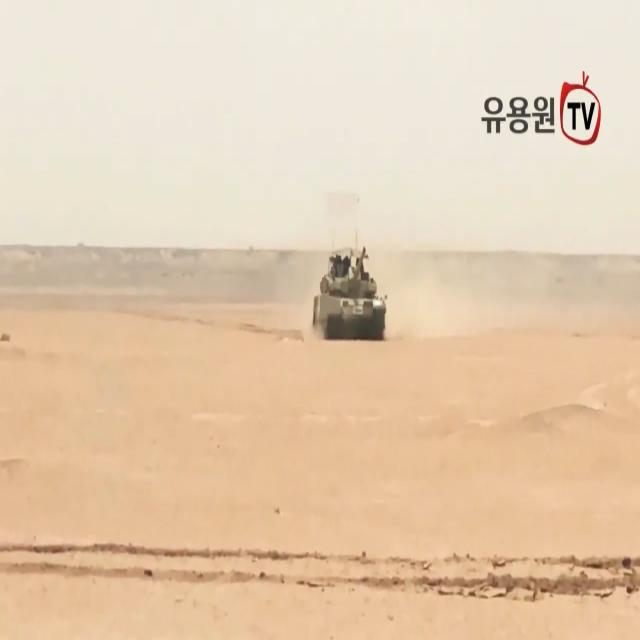korea tank: (312, 246, 388, 343)
